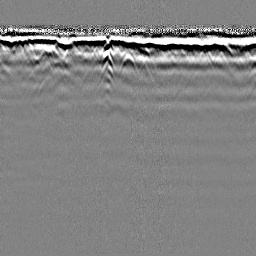cavity: (118, 49, 138, 74)
